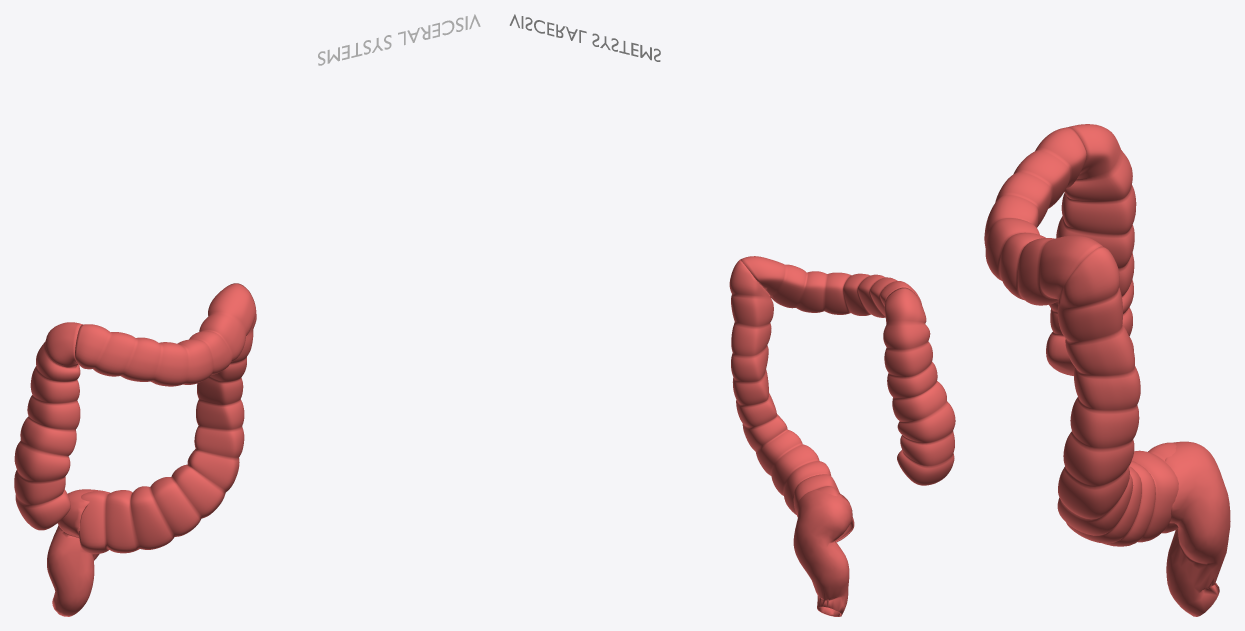
Rendered from big insentive.fbx.
3 views of the same model, side by side, from view 1: azimuth 30°, elevation 25°; view 2: azimuth 150°, elevation 25°; view 3: azimuth 270°, elevation 25° (orthographic). The views are drawn at different scales.
Visible parts, largest first — view 1: Descending colon, Ascending colon, Transverse colon, Sigmoid colon, Visceral systems.g; view 2: Descending colon, Ascending colon, Transverse colon, Sigmoid colon, Visceral systems.g; view 3: Descending colon, Transverse colon, Ascending colon, Sigmoid colon.
Part boxes in pixels (x1=…): Descending colon: x1=78, y1=287, x2=256, y2=553; Ascending colon: x1=14, y1=322, x2=82, y2=530; Transverse colon: x1=75, y1=283, x2=255, y2=386; Sigmoid colon: x1=47, y1=489, x2=110, y2=616; Visceral systems.g: x1=318, y1=14, x2=480, y2=65; Descending colon: x1=729, y1=260, x2=854, y2=542; Ascending colon: x1=883, y1=287, x2=955, y2=485; Transverse colon: x1=740, y1=256, x2=921, y2=317; Sigmoid colon: x1=793, y1=489, x2=852, y2=616; Visceral systems.g: x1=509, y1=14, x2=660, y2=61; Descending colon: x1=1057, y1=246, x2=1178, y2=546; Transverse colon: x1=984, y1=127, x2=1102, y2=305; Ascending colon: x1=1046, y1=124, x2=1136, y2=375; Sigmoid colon: x1=1165, y1=441, x2=1230, y2=616.
Size of the model in its own units: 570 by 623 by 185.
